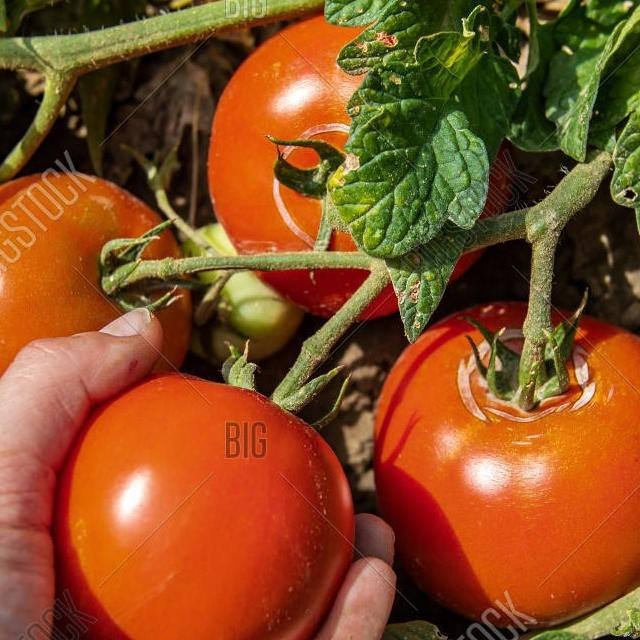tomato: (374, 302, 640, 625), (52, 374, 354, 640), (208, 13, 360, 253), (0, 172, 160, 377), (256, 269, 366, 316), (152, 291, 188, 372), (480, 142, 512, 217), (358, 289, 396, 319), (144, 231, 178, 258)
